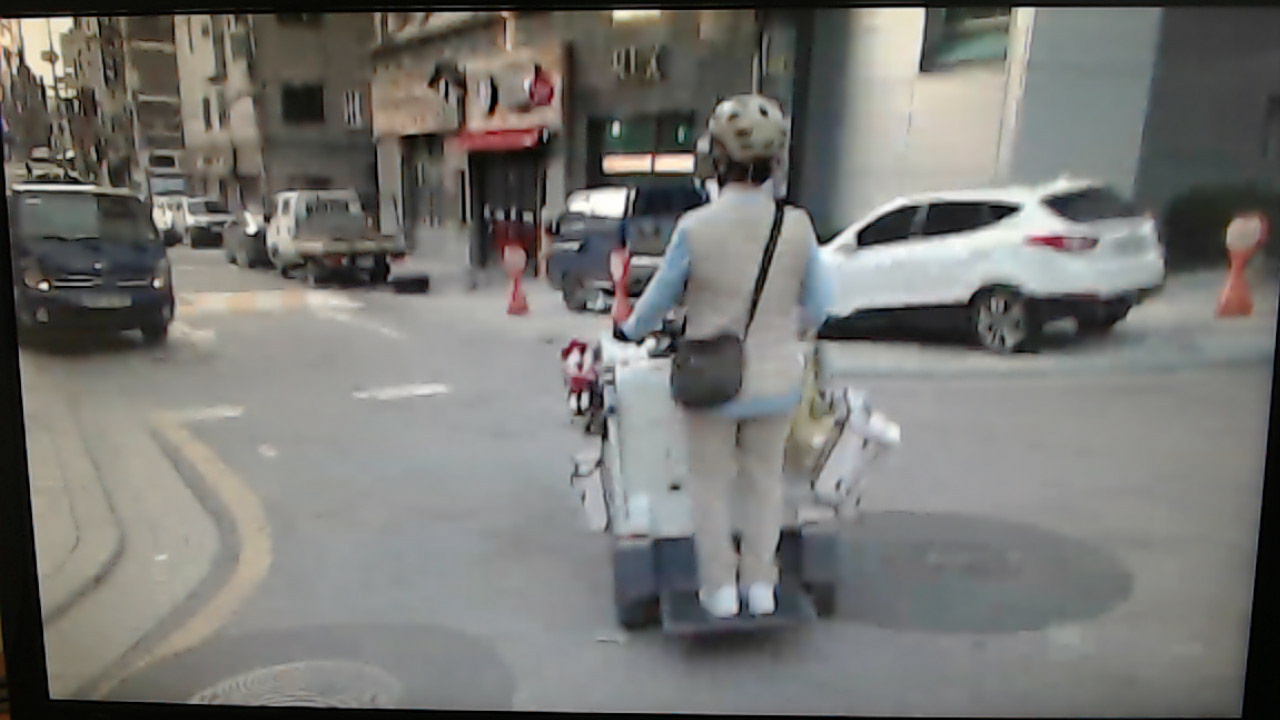Yakurut: (611, 71, 862, 642)
